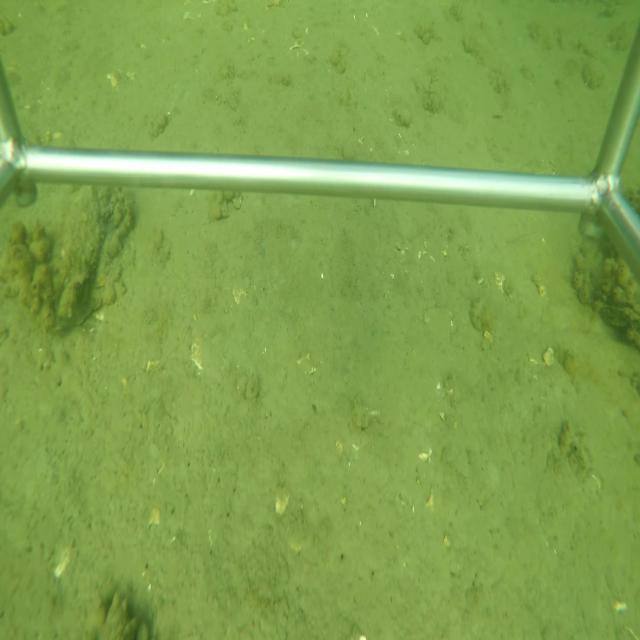Oyster-Indeterminate: (46, 184, 105, 334)
Oyster-Open: (589, 295, 638, 334)
